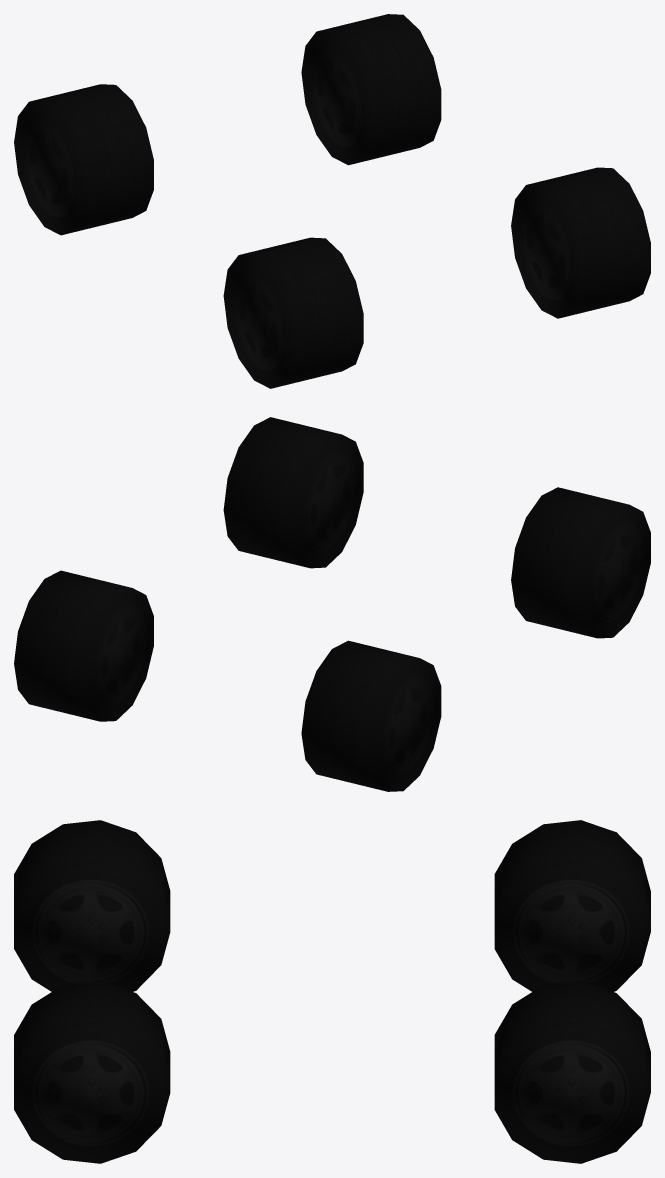
The model's file is wheels.fbx.
The picture shows the model from 3 angles, top to bottom: view 1: azimuth 30°, elevation 25°; view 2: azimuth 150°, elevation 25°; view 3: azimuth 270°, elevation 25°; orthographic projection. The views are drawn at different scales.
Parts seen in each view (by area): view 1: wheels; view 2: wheels; view 3: wheels.
Boxes of the visible parts, <box> form: wheels: <box>14,14,650,388</box>; wheels: <box>14,417,650,791</box>; wheels: <box>14,820,650,1163</box>.
Bounding box in the file's own units: 14.95 × 4.96 × 20.03.
